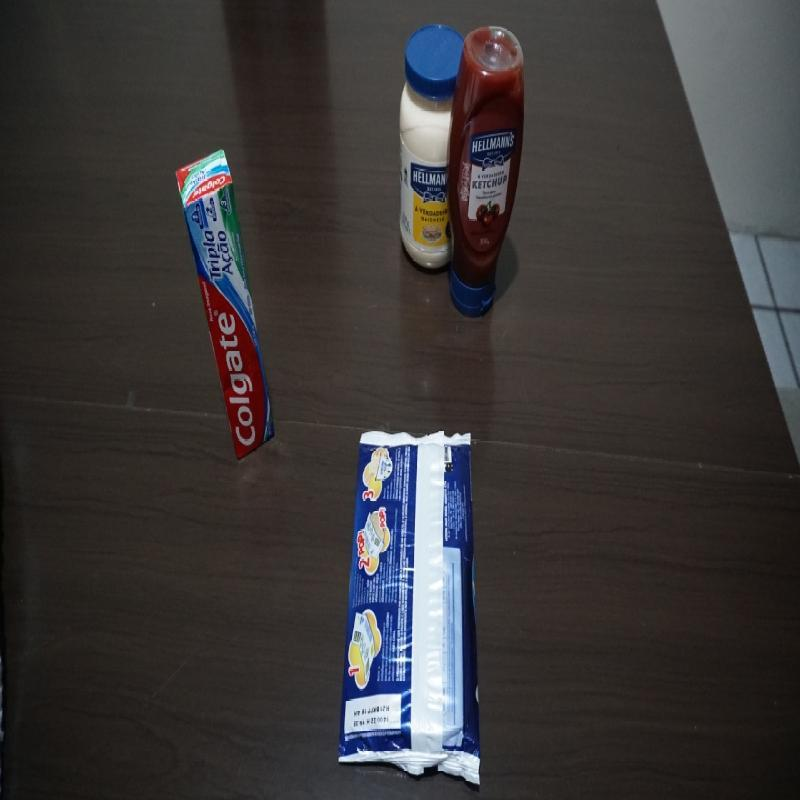Ketchup: (447, 26, 526, 320)
Mayonnaise: (399, 24, 466, 273)
Popcorn: (337, 428, 483, 788)
Toothpaste: (174, 147, 274, 462)
